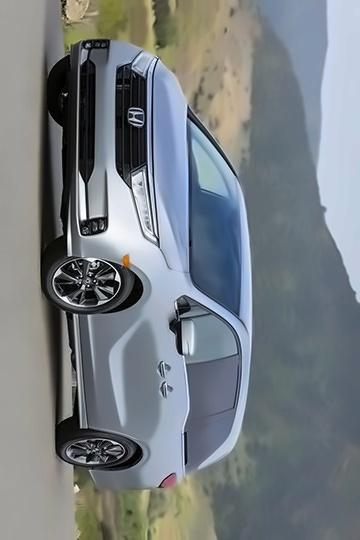Car hood: (145, 51, 191, 274)
Fender - -F-L-: (68, 235, 188, 317)
Fender - -R-L-: (77, 426, 185, 477)
Front bumper: (57, 34, 124, 269)
Headlight - -L-: (126, 160, 162, 250)
Headlight - -R-: (127, 40, 161, 81)
Passenger-s door - -F-L-: (77, 318, 251, 375)
Passenger-s door - -R-L-: (79, 376, 250, 439)
Rear bumper: (82, 462, 138, 499)
Rear light - -L-: (152, 468, 185, 496)
Side bumper - -L-: (66, 308, 91, 437)
Side mirror - -L-: (172, 314, 200, 362)
